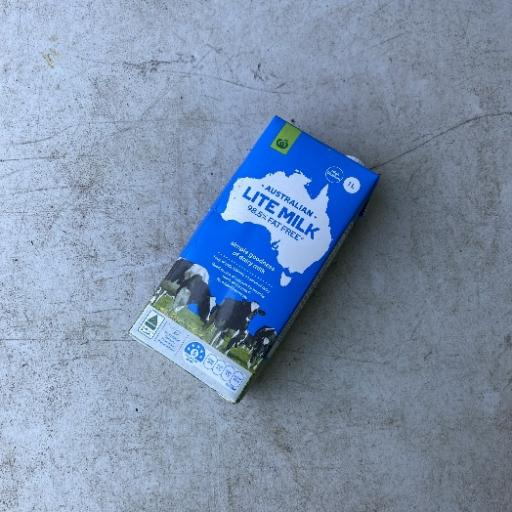Cardboard: (126, 114, 381, 404)
